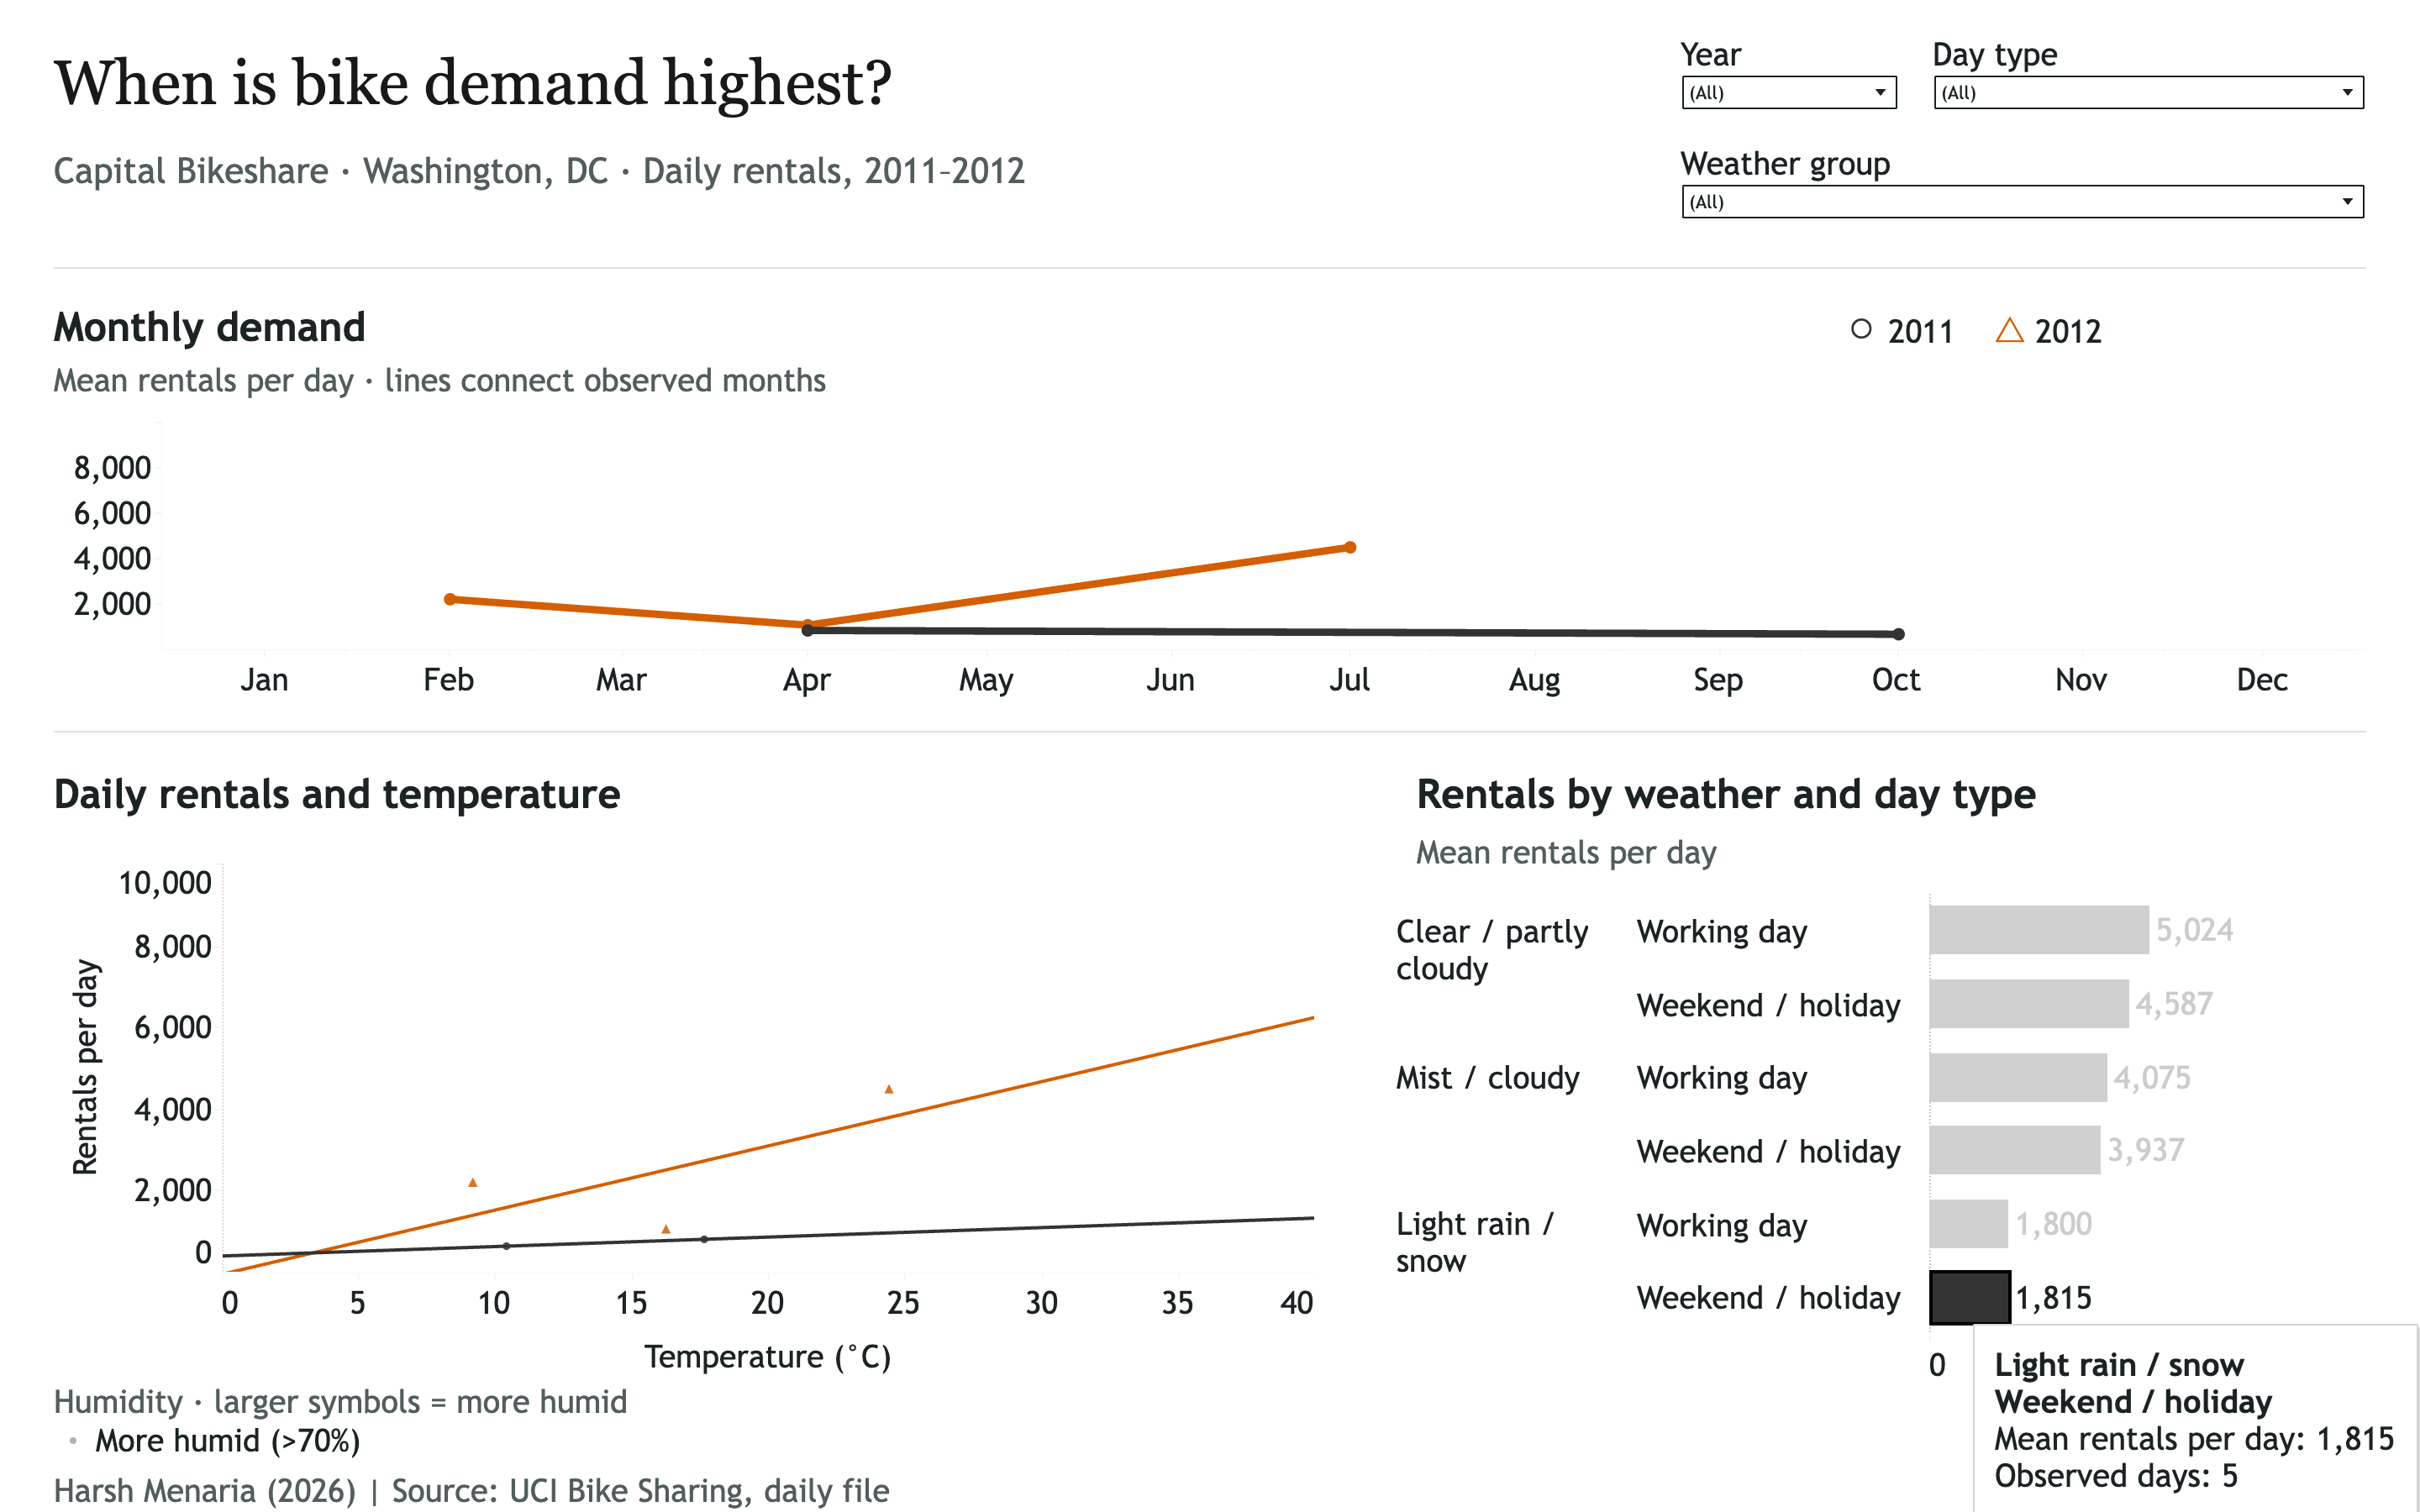

The dashboard page shown, as its layout file describes it:
{"tool":"tableau","page":{"name":"Bike demand | Prototype","canvas":[1440,900],"ordinal":0},"visuals":[{"type":"blank","box":[0,0,1440,900]},{"type":"filter","title":"01 Monthly demand","param":"[federated.bike_demand].[none:Year:nk]","box":[1000,21,180,54]},{"type":"filter","title":"01 Monthly demand","param":"[federated.bike_demand].[none:DayType:nk]","box":[1200,21,208,54]},{"type":"text","box":[32,23,925,52]},{"type":"text","box":[32,86,925,30]},{"type":"filter","title":"02 Temperature and rentals","param":"[federated.bike_demand].[none:Calculation_1907443823489024:nk]","box":[1000,86,180,54]},{"type":"filter","title":"01 Monthly demand","param":"[federated.bike_demand].[none:Weather:nk]","box":[1200,86,208,54]},{"type":"blank","box":[32,159,1376,1]},{"type":"text","box":[1100,178,308,34]},{"type":"text","box":[32,179,1376,29]},{"type":"text","box":[32,214,1376,24]},{"type":"worksheet","title":"01 Monthly demand","mark":"Line","rows":["DailyRentals"],"cols":["Calculation_1435546893139968"],"box":[32,251,1376,165]},{"type":"blank","box":[32,435,1376,1]},{"type":"text","box":[32,457,750,29]},{"type":"text","box":[843,457,565,29]},{"type":"text","box":[843,492,565,30]},{"type":"worksheet","title":"02 Temperature and rentals","mark":"Shape","rows":["DailyRentals"],"cols":["TemperatureC"],"box":[32,514,750,310]},{"type":"worksheet","title":"03 Weather and day type","mark":"Bar","rows":["Weather","DayType"],"cols":["DailyRentals"],"box":[825,532,583,292]},{"type":"text","box":[32,819,600,30]},{"type":"text","box":[32,846,216,35]},{"type":"text","box":[252,846,223.2,35]},{"type":"text","box":[475.2,846,302.4,35]},{"type":"text","box":[32,875,1376,23]}]}

Visuals, with their boxes in screenshot pixels (x1, y1, x2, y2), scaled from the page's 1440x900 canvas onto the 2420x1512 screenshot:
blank: <box>0,0,2419,1511</box>
"01 Monthly demand" filter: <box>1681,35,1983,126</box>
"01 Monthly demand" filter: <box>2017,35,2366,126</box>
text: <box>54,39,1608,126</box>
text: <box>54,144,1608,195</box>
"02 Temperature and rentals" filter: <box>1681,144,1983,235</box>
"01 Monthly demand" filter: <box>2017,144,2366,235</box>
blank: <box>54,267,2366,269</box>
text: <box>1849,299,2366,356</box>
text: <box>54,301,2366,349</box>
text: <box>54,360,2366,400</box>
"01 Monthly demand" worksheet (Line marks): <box>54,422,2366,699</box>
blank: <box>54,731,2366,732</box>
text: <box>54,768,1314,816</box>
text: <box>1417,768,2366,816</box>
text: <box>1417,827,2366,877</box>
"02 Temperature and rentals" worksheet (Shape marks): <box>54,864,1314,1384</box>
"03 Weather and day type" worksheet (Bar marks): <box>1386,894,2366,1384</box>
text: <box>54,1376,1062,1426</box>
text: <box>54,1421,417,1480</box>
text: <box>423,1421,798,1480</box>
text: <box>798,1421,1307,1480</box>
text: <box>54,1470,2366,1509</box>
